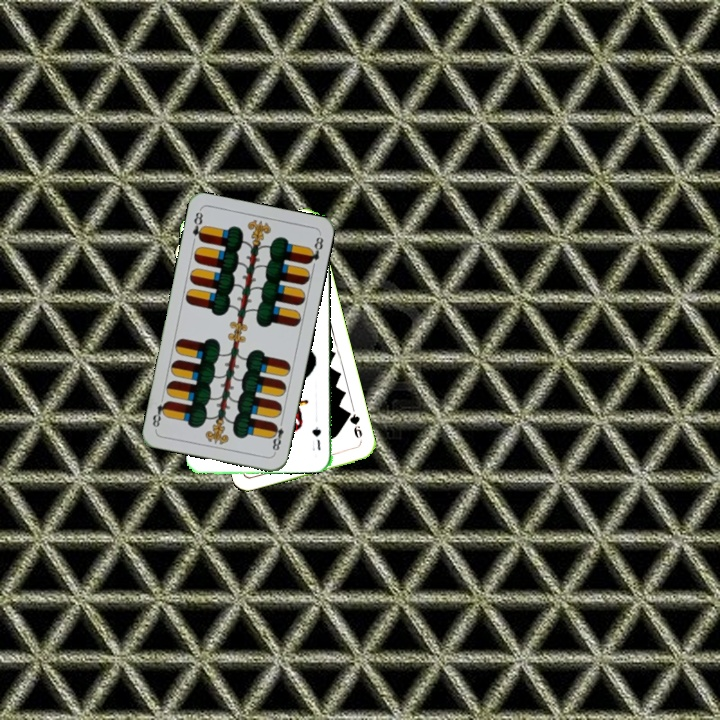E8: (267, 416, 286, 456), (188, 207, 207, 244)
G9: (343, 407, 365, 441)
GU: (309, 422, 323, 453)
